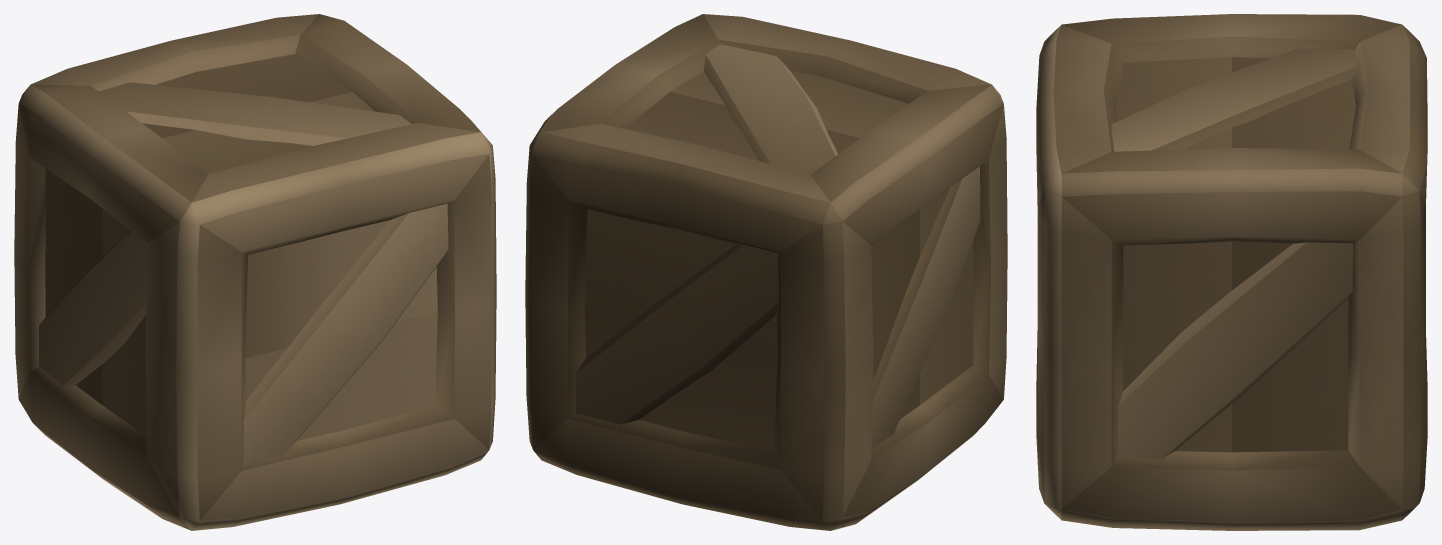
The model's file is box_large_2.fbx.
3 views of the same model, side by side, from view 1: azimuth 30°, elevation 25°; view 2: azimuth 150°, elevation 25°; view 3: azimuth 270°, elevation 25° (orthographic). The views are drawn at different scales.
Visible parts, largest first — view 1: box_large_2; view 2: box_large_2; view 3: box_large_2.
Boxes of the visible parts, <box> form: box_large_2: <box>14,14,496,530</box>; box_large_2: <box>525,14,1007,530</box>; box_large_2: <box>1036,14,1427,530</box>.
Size of the model in its own units: 106 by 105 by 102.
